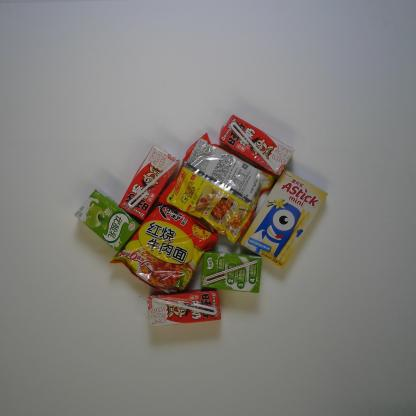Dessert: (239, 168, 329, 271)
Instant Noodles: (157, 132, 277, 245), (109, 194, 220, 300)
Milk: (118, 144, 182, 221), (218, 113, 295, 176), (72, 187, 141, 253), (143, 283, 223, 331), (199, 251, 264, 296)
